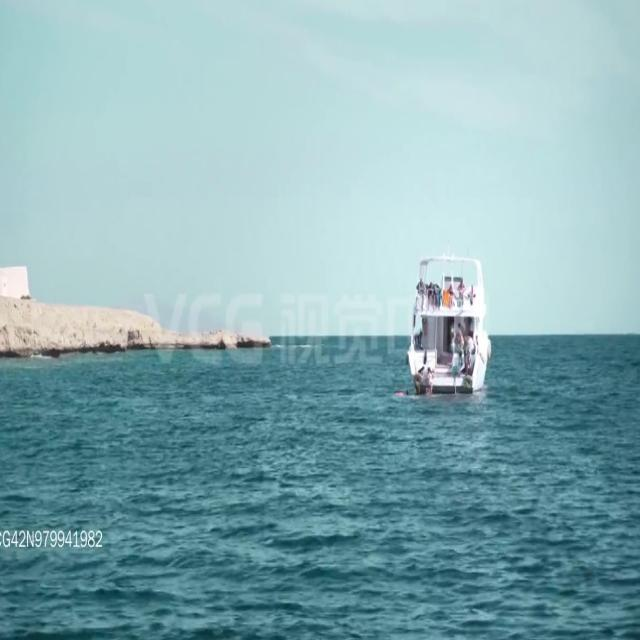houseboat: (410, 242, 489, 398)
